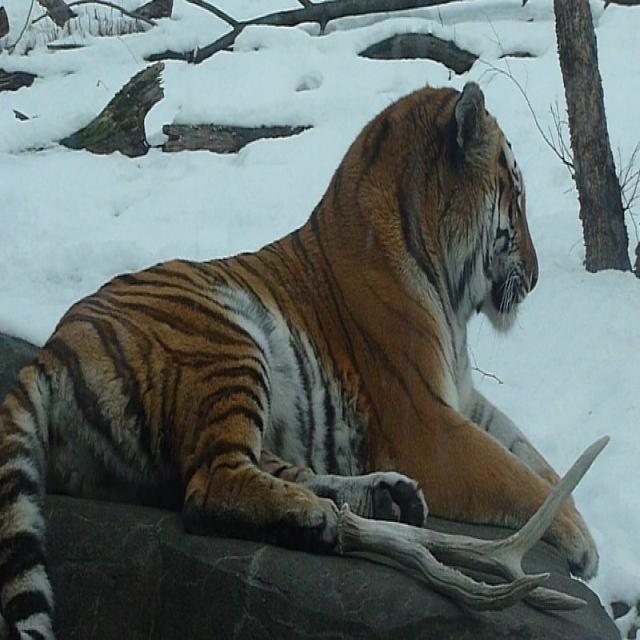Tiger: (2, 74, 566, 553)
